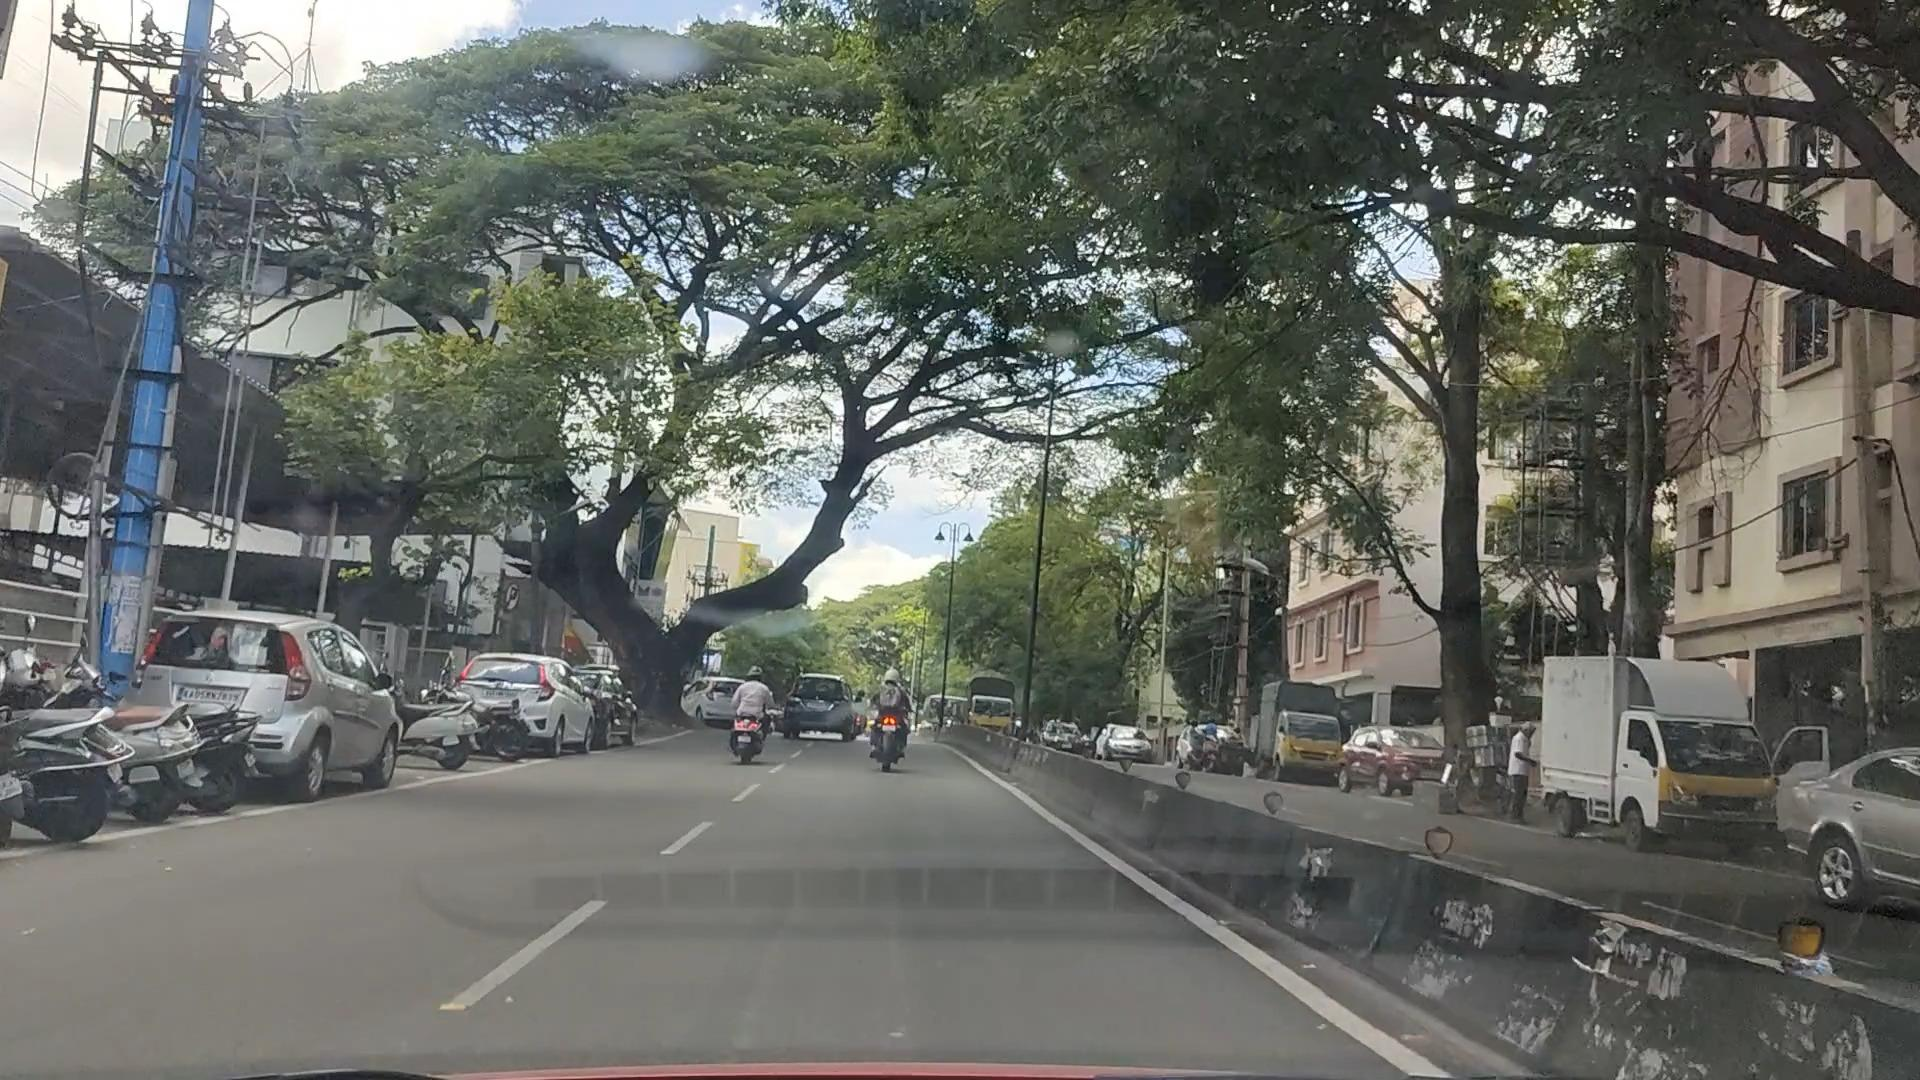LMV: (133, 593, 415, 806), (865, 663, 927, 754), (733, 655, 775, 757)
